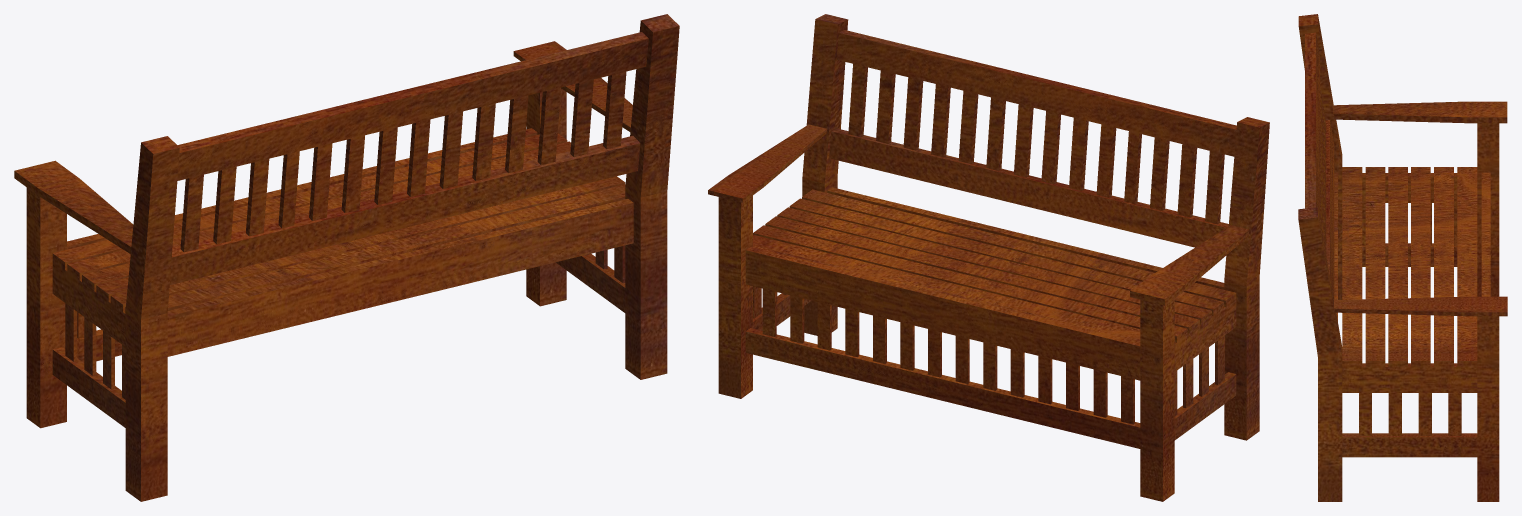
3 renders of one model, left to right at view 1: azimuth 30°, elevation 25°; view 2: azimuth 150°, elevation 25°; view 3: azimuth 270°, elevation 25°, orthographic. The views are drawn at different scales.
Parts seen in each view (by area): view 1: mesh1_mesh1-geometry; view 2: mesh1_mesh1-geometry; view 3: mesh1_mesh1-geometry.
Part boxes in pixels (x1,y1,x2,y2): mesh1_mesh1-geometry: (14,14,679,501); mesh1_mesh1-geometry: (708,14,1269,501); mesh1_mesh1-geometry: (1298,14,1507,501).
Bounding box in the file's own units: 0.7949 × 0.505 × 0.3364.
